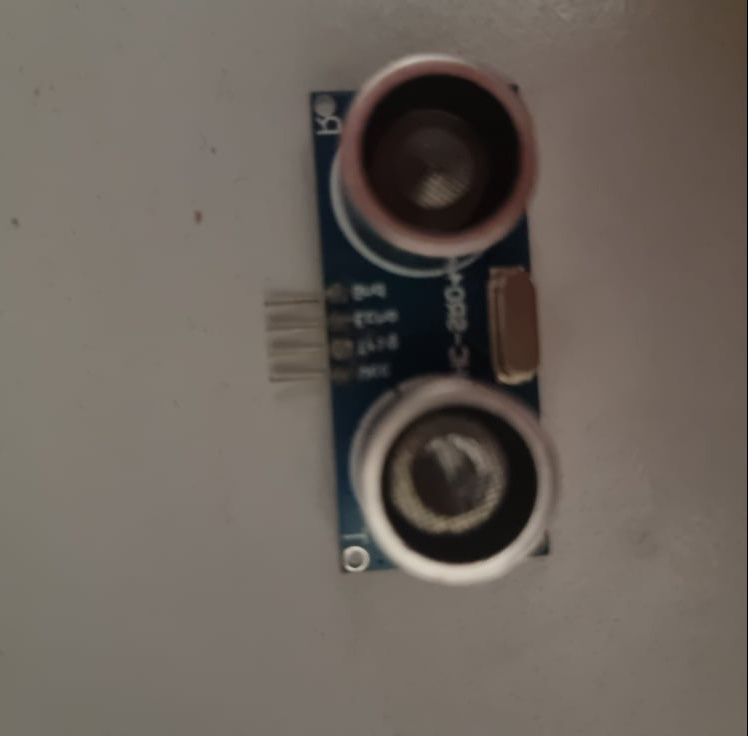SENSOR: (263, 51, 564, 585)
